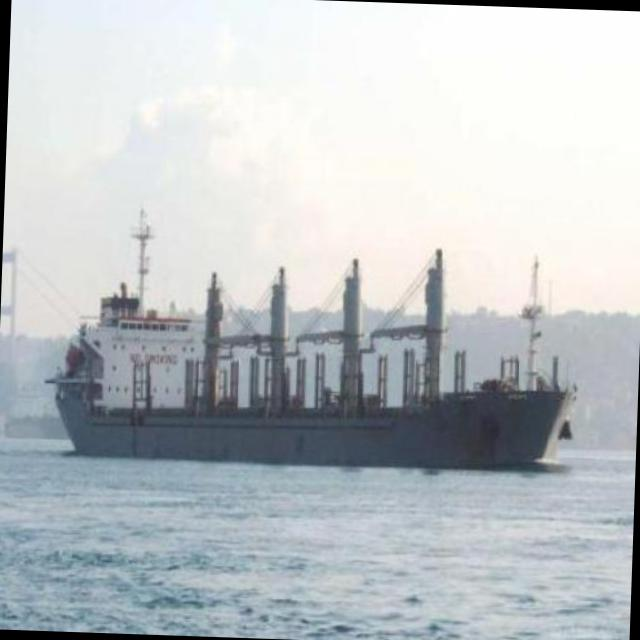boat: (31, 288, 606, 477)
